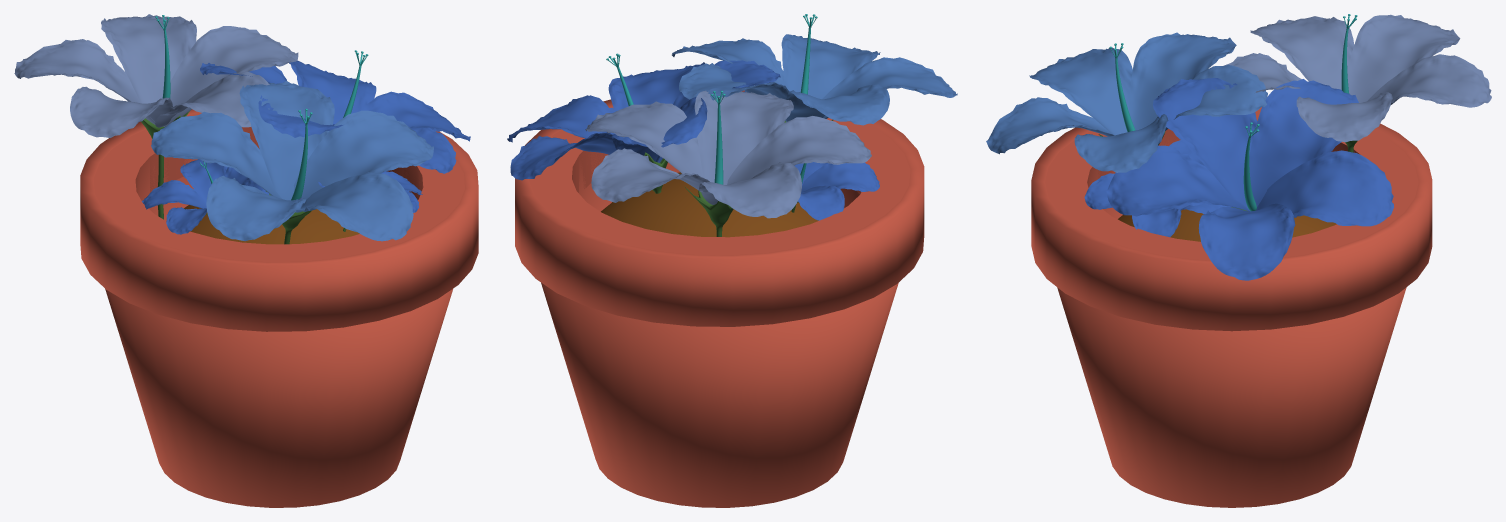
File: hibiscus.fbx
3 views of the same model, side by side, from view 1: azimuth 30°, elevation 25°; view 2: azimuth 150°, elevation 25°; view 3: azimuth 270°, elevation 25° (orthographic). The views are drawn at different scales.
Parts seen in each view (by area): view 1: MACETA HIBISCUS.001; view 2: MACETA HIBISCUS.001; view 3: MACETA HIBISCUS.001.
Part boxes in pixels (x1,y1,x2,y2): MACETA HIBISCUS.001: [14, 14, 478, 507]; MACETA HIBISCUS.001: [507, 14, 957, 507]; MACETA HIBISCUS.001: [986, 14, 1491, 507].
Size of the model in its own units: 92.7 by 99.36 by 111.
